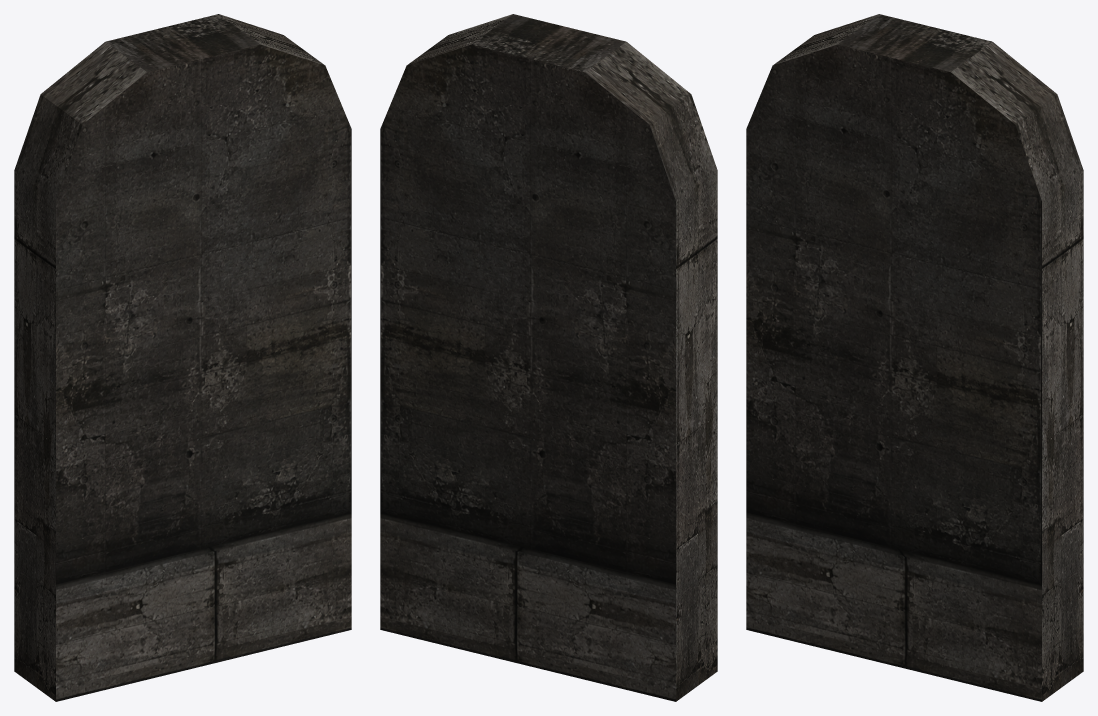
The model's file is Tombstone02.fbx.
3 renders of one model, left to right at view 1: azimuth 30°, elevation 25°; view 2: azimuth 150°, elevation 25°; view 3: azimuth 330°, elevation 25°, orthographic.
Parts seen in each view (by area): view 1: Tombstone02; view 2: Tombstone02; view 3: Tombstone02.
Boxes of the visible parts, <box> form: Tombstone02: <box>14,14,351,701</box>; Tombstone02: <box>380,14,717,701</box>; Tombstone02: <box>746,14,1083,701</box>.
Size of the model in its own units: 0.2519 by 0.4943 by 0.0617.
